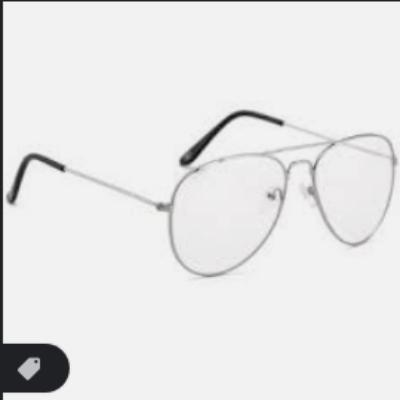glasses: (8, 109, 400, 278)
